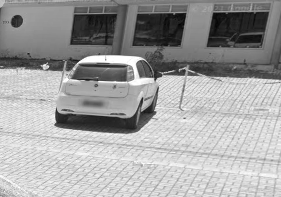car: (51, 45, 163, 131)
